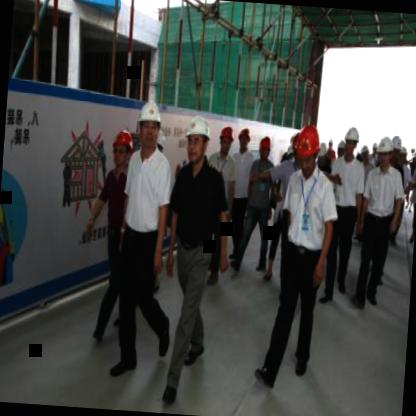helmet: (180, 111, 214, 168), (135, 96, 165, 153), (292, 122, 323, 174), (107, 126, 136, 179), (376, 134, 395, 170), (216, 122, 236, 156), (342, 124, 362, 157), (389, 134, 405, 164), (256, 133, 272, 162), (0, 196, 8, 253), (237, 126, 253, 152)
